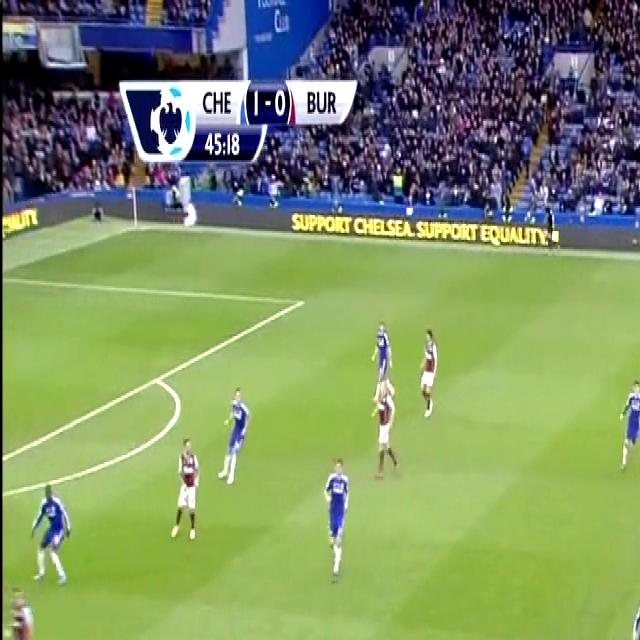soccer-player: (24, 472, 74, 590), (316, 444, 355, 588), (166, 427, 206, 552), (367, 368, 405, 484), (221, 374, 256, 490), (1, 572, 50, 640), (413, 319, 441, 426), (612, 370, 640, 473), (371, 309, 397, 405), (618, 569, 640, 640)
